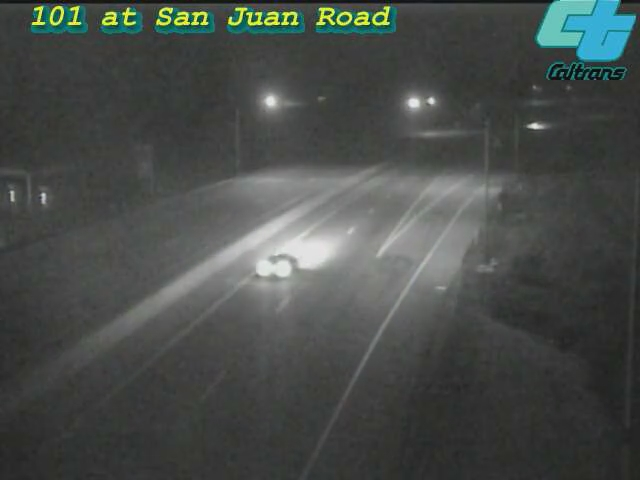vehicle: (239, 224, 319, 304), (510, 102, 560, 152)
